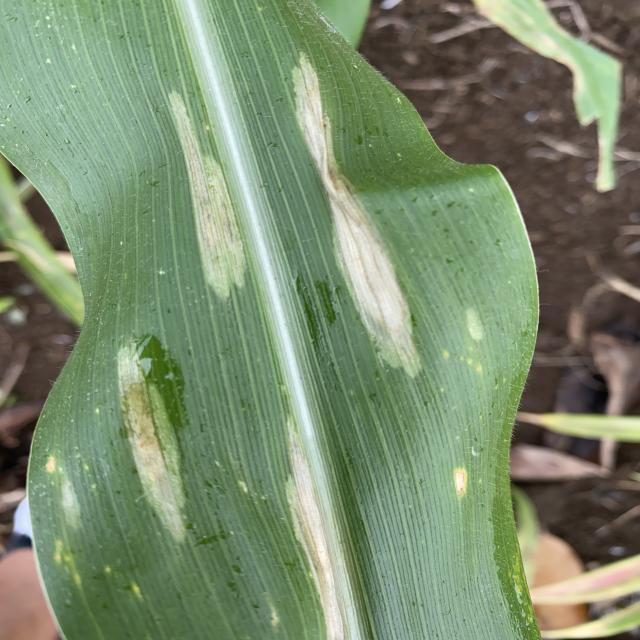Corn_Leaf_Blight: (22, 0, 548, 640)
